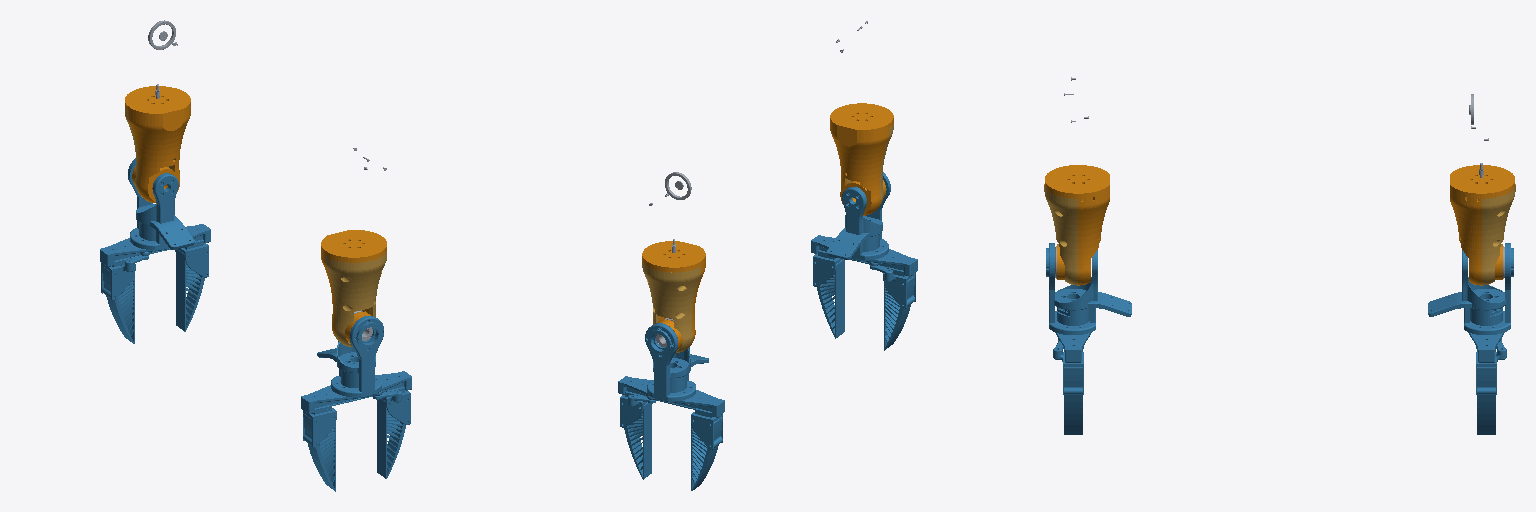
robot.urdf — arm_v2_articulated:
<?xml version='1.0' encoding='utf-8'?>
<robot name="arm_v2_articulated">
  <link name="base_link">
    <visual name="stand_retained_1">
      <origin xyz="0.0215734774383 0 -1.17951807079" rpy="1.57079632679 0 -1.57079632679" />
      <geometry>
        <mesh filename="../meshes/stand_retained_1.stl" />
      </geometry>
      <material name="material_retained">
        <color rgba="0.64 0.67 0.71 1" />
      </material>
    </visual>
    <visual name="stand_retained_2">
      <origin xyz="0.0215734774383 0 -1.17951807079" rpy="1.57079632679 0 -1.57079632679" />
      <geometry>
        <mesh filename="../meshes/stand_retained_2.stl" />
      </geometry>
      <material name="material_retained">
        <color rgba="0.64 0.67 0.71 1" />
      </material>
    </visual>
  </link>
  <link name="link1">
    <visual name="right_link1_retained">
      <origin xyz="0 0.163325 -1.24" rpy="1.57079632679 0 -1.57079632679" />
      <geometry>
        <mesh filename="../meshes/right_link1_retained.stl" />
      </geometry>
      <material name="material_retained">
        <color rgba="0.64 0.67 0.71 1" />
      </material>
    </visual>
  </link>
  <link name="link2">
    <visual name="right_link2_retained">
      <origin xyz="0.00702084238344 0.279325 -1.24" rpy="1.57079632679 0 -1.57079632679" />
      <geometry>
        <mesh filename="../meshes/right_link2_retained.stl" />
      </geometry>
      <material name="material_retained">
        <color rgba="0.64 0.67 0.71 1" />
      </material>
    </visual>
  </link>
  <link name="link3">
    <visual name="right_link3_retained_1">
      <origin xyz="0.00702084238344 0.279325 -1.1237000008" rpy="1.57079632679 0 -1.57079632679" />
      <geometry>
        <mesh filename="../meshes/right_link3_retained_1.stl" />
      </geometry>
      <material name="material_retained">
        <color rgba="0.64 0.67 0.71 1" />
      </material>
    </visual>
    <visual name="right_link3_retained_2">
      <origin xyz="0.00702084238344 0.279325 -1.1237000008" rpy="1.57079632679 0 -1.57079632679" />
      <geometry>
        <mesh filename="../meshes/right_link3_retained_2.stl" />
      </geometry>
      <material name="material_retained">
        <color rgba="0.64 0.67 0.71 1" />
      </material>
    </visual>
  </link>
  <link name="link4">
    <visual name="right_link4_retained">
      <origin xyz="0.00702084238344 0.281575000803 -0.939100000803" rpy="1.57079632679 0 -1.57079632679" />
      <geometry>
        <mesh filename="../meshes/right_link4_retained.stl" />
      </geometry>
      <material name="material_retained">
        <color rgba="0.64 0.67 0.71 1" />
      </material>
    </visual>
  </link>
  <link name="link5">
    <visual name="right_link5_new_cover">
      <origin xyz="0.00702084238344 0.281575000803 -0.831600001606" rpy="1.57079632679 0 -1.57079632679" />
      <geometry>
        <mesh filename="../meshes/right_link5_new_cover.stl" />
      </geometry>
      <material name="material_new_cover">
        <color rgba="0.75 0.6 0.3 1" />
      </material>
    </visual>
    <visual name="right_link5_new_forearm">
      <origin xyz="0.00702084238344 0.281575000803 -0.831600001606" rpy="1.57079632679 0 -1.57079632679" />
      <geometry>
        <mesh filename="../meshes/right_link5_new_forearm.stl" />
      </geometry>
      <material name="material_new_forearm">
        <color rgba="0.85 0.55 0.12 1" />
      </material>
    </visual>
    <visual name="right_link5_retained">
      <origin xyz="0.00702084238344 0.281575000803 -0.831600001606" rpy="1.57079632679 0 -1.57079632679" />
      <geometry>
        <mesh filename="../meshes/right_link5_retained.stl" />
      </geometry>
      <material name="material_retained">
        <color rgba="0.64 0.67 0.71 1" />
      </material>
    </visual>
  </link>
  <link name="link6">
    <visual name="right_link6_new_wrist">
      <origin xyz="0.00702084238344 0.288575000803 -0.703600001606" rpy="1.57079632679 0 -1.57079632679" />
      <geometry>
        <mesh filename="../meshes/right_link6_new_wrist.stl" />
      </geometry>
      <material name="material_new_wrist">
        <color rgba="0.26 0.53 0.7 1" />
      </material>
    </visual>
    <visual name="right_link6_retained">
      <origin xyz="0.00702084238344 0.288575000803 -0.703600001606" rpy="1.57079632679 0 -1.57079632679" />
      <geometry>
        <mesh filename="../meshes/right_link6_retained.stl" />
      </geometry>
      <material name="material_retained">
        <color rgba="0.64 0.67 0.71 1" />
      </material>
    </visual>
  </link>
  <link name="right_crank">
    <visual name="right_crank_new_wrist">
      <origin xyz="0.00702084238342 0.288575000803 -0.608288613305" rpy="1.57079632679 0 -1.57079632679" />
      <geometry>
        <mesh filename="../meshes/right_crank_new_wrist.stl" />
      </geometry>
      <material name="material_new_wrist">
        <color rgba="0.26 0.53 0.7 1" />
      </material>
    </visual>
  </link>
  <link name="link7">
    <visual name="right_jaw0_new_wrist">
      <origin xyz="0.0622319394516 0.266830592257 -0.595788613305" rpy="1.57079632679 0 -1.57079632679" />
      <geometry>
        <mesh filename="../meshes/right_jaw0_new_wrist.stl" />
      </geometry>
      <material name="material_new_wrist">
        <color rgba="0.26 0.53 0.7 1" />
      </material>
    </visual>
  </link>
  <link name="right_bar0">
    <visual name="right_bar0_new_wrist">
      <origin xyz="0.0329987431886 0.273570045963 -0.595788613305" rpy="1.57079632679 0 -1.57079632679" />
      <geometry>
        <mesh filename="../meshes/right_bar0_new_wrist.stl" />
      </geometry>
      <material name="material_new_wrist">
        <color rgba="0.26 0.53 0.7 1" />
      </material>
    </visual>
  </link>
  <link name="link8">
    <visual name="right_jaw1_new_wrist">
      <origin xyz="-0.0481892415962 0.310323802235 -0.595788613305" rpy="1.57079632679 0 -1.57079632679" />
      <geometry>
        <mesh filename="../meshes/right_jaw1_new_wrist.stl" />
      </geometry>
      <material name="material_new_wrist">
        <color rgba="0.26 0.53 0.7 1" />
      </material>
    </visual>
  </link>
  <link name="right_bar1">
    <visual name="right_bar1_new_wrist">
      <origin xyz="-0.0189570584217 0.303579955643 -0.595788613305" rpy="1.57079632679 0 -1.57079632679" />
      <geometry>
        <mesh filename="../meshes/right_bar1_new_wrist.stl" />
      </geometry>
      <material name="material_new_wrist">
        <color rgba="0.26 0.53 0.7 1" />
      </material>
    </visual>
  </link>
  <link name="link1L">
    <visual name="left_link1_retained">
      <origin xyz="0 -0.163325 -1.24" rpy="1.57079632679 0 -1.57079632679" />
      <geometry>
        <mesh filename="../meshes/left_link1_retained.stl" />
      </geometry>
      <material name="material_retained">
        <color rgba="0.64 0.67 0.71 1" />
      </material>
    </visual>
  </link>
  <link name="link2l">
    <visual name="left_link2_retained">
      <origin xyz="0.00702084238344 -0.279325 -1.24" rpy="1.57079632679 0 -1.57079632679" />
      <geometry>
        <mesh filename="../meshes/left_link2_retained.stl" />
      </geometry>
      <material name="material_retained">
        <color rgba="0.64 0.67 0.71 1" />
      </material>
    </visual>
  </link>
  <link name="link3l">
    <visual name="left_link3_retained_1">
      <origin xyz="0.00702084238344 -0.279325 -1.1237000008" rpy="1.57079632679 0 -1.57079632679" />
      <geometry>
        <mesh filename="../meshes/left_link3_retained_1.stl" />
      </geometry>
      <material name="material_retained">
        <color rgba="0.64 0.67 0.71 1" />
      </material>
    </visual>
    <visual name="left_link3_retained_2">
      <origin xyz="0.00702084238344 -0.279325 -1.1237000008" rpy="1.57079632679 0 -1.57079632679" />
      <geometry>
        <mesh filename="../meshes/left_link3_retained_2.stl" />
      </geometry>
      <material name="material_retained">
        <color rgba="0.64 0.67 0.71 1" />
      </material>
    </visual>
  </link>
  <link name="link4l">
    <visual name="left_link4_retained_1">
      <origin xyz="0.00702084238344 -0.281575000803 -0.939100000803" rpy="1.57079632679 0 -1.57079632679" />
      <geometry>
        <mesh filename="../meshes/left_link4_retained_1.stl" />
      </geometry>
      <material name="material_retained">
        <color rgba="0.64 0.67 0.71 1" />
      </material>
    </visual>
    <visual name="left_link4_retained_2">
      <origin xyz="0.00702084238344 -0.281575000803 -0.939100000803" rpy="1.57079632679 0 -1.57079632679" />
      <geometry>
        <mesh filename="../meshes/left_link4_retained_2.stl" />
      </geometry>
      <material name="material_retained">
        <color rgba="0.64 0.67 0.71 1" />
      </material>
    </visual>
  </link>
  <link name="link5l">
    <visual name="left_link5_new_cover">
      <origin xyz="0.00702084238344 -0.281575000803 -0.831600001606" rpy="1.57079632679 0 -1.57079632679" />
      <geometry>
        <mesh filename="../meshes/left_link5_new_cover.stl" />
      </geometry>
      <material name="material_new_cover">
        <color rgba="0.75 0.6 0.3 1" />
      </material>
    </visual>
    <visual name="left_link5_new_forearm">
      <origin xyz="0.00702084238344 -0.281575000803 -0.831600001606" rpy="1.57079632679 0 -1.57079632679" />
      <geometry>
        <mesh filename="../meshes/left_link5_new_forearm.stl" />
      </geometry>
      <material name="material_new_forearm">
        <color rgba="0.85 0.55 0.12 1" />
      </material>
    </visual>
    <visual name="left_link5_retained">
      <origin xyz="0.00702084238344 -0.281575000803 -0.831600001606" rpy="1.57079632679 0 -1.57079632679" />
      <geometry>
        <mesh filename="../meshes/left_link5_retained.stl" />
      </geometry>
      <material name="material_retained">
        <color rgba="0.64 0.67 0.71 1" />
      </material>
    </visual>
  </link>
  <link name="link6l">
    <visual name="left_link6_new_wrist">
      <origin xyz="0.00702084238344 -0.288575000803 -0.703600001606" rpy="1.57079632679 0 -1.57079632679" />
      <geometry>
        <mesh filename="../meshes/left_link6_new_wrist.stl" />
      </geometry>
      <material name="material_new_wrist">
        <color rgba="0.26 0.53 0.7 1" />
      </material>
    </visual>
    <visual name="left_link6_retained">
      <origin xyz="0.00702084238344 -0.288575000803 -0.703600001606" rpy="1.57079632679 0 -1.57079632679" />
      <geometry>
        <mesh filename="../meshes/left_link6_retained.stl" />
      </geometry>
      <material name="material_retained">
        <color rgba="0.64 0.67 0.71 1" />
      </material>
    </visual>
  </link>
  <link name="left_crank">
    <visual name="left_crank_new_wrist">
      <origin xyz="0.00702084238342 -0.288575000803 -0.608288613305" rpy="1.57079632679 0 -1.57079632679" />
      <geometry>
        <mesh filename="../meshes/left_crank_new_wrist.stl" />
      </geometry>
      <material name="material_new_wrist">
        <color rgba="0.26 0.53 0.7 1" />
      </material>
    </visual>
  </link>
  <link name="link7l">
    <visual name="left_jaw0_new_wrist">
      <origin xyz="0.0622319394516 -0.266830592257 -0.595788613305" rpy="1.57079632679 0 -1.57079632679" />
      <geometry>
        <mesh filename="../meshes/left_jaw0_new_wrist.stl" />
      </geometry>
      <material name="material_new_wrist">
        <color rgba="0.26 0.53 0.7 1" />
      </material>
    </visual>
  </link>
  <link name="left_bar0">
    <visual name="left_bar0_new_wrist">
      <origin xyz="0.0329987431886 -0.273570045963 -0.595788613305" rpy="1.57079632679 0 -1.57079632679" />
      <geometry>
        <mesh filename="../meshes/left_bar0_new_wrist.stl" />
      </geometry>
      <material name="material_new_wrist">
        <color rgba="0.26 0.53 0.7 1" />
      </material>
    </visual>
  </link>
  <link name="link8l">
    <visual name="left_jaw1_new_wrist">
      <origin xyz="-0.0481892415962 -0.310323802235 -0.595788613305" rpy="1.57079632679 0 -1.57079632679" />
      <geometry>
        <mesh filename="../meshes/left_jaw1_new_wrist.stl" />
      </geometry>
      <material name="material_new_wrist">
        <color rgba="0.26 0.53 0.7 1" />
      </material>
    </visual>
  </link>
  <link name="left_bar1">
    <visual name="left_bar1_new_wrist">
      <origin xyz="-0.0189570584217 -0.303579955643 -0.595788613305" rpy="1.57079632679 0 -1.57079632679" />
      <geometry>
        <mesh filename="../meshes/left_bar1_new_wrist.stl" />
      </geometry>
      <material name="material_new_wrist">
        <color rgba="0.26 0.53 0.7 1" />
      </material>
    </visual>
  </link>
  <joint name="joint1" type="revolute">
    <parent link="base_link" />
    <child link="link1" />
    <origin xyz="0.0215734774383 -0.163325 0.060481929205" rpy="0 0 0" />
    <axis xyz="0 1 0" />
    <limit lower="-1.7453292519943295" upper="1.7453292519943295" effort="100" velocity="1" />
  </joint>
  <joint name="joint2" type="revolute">
    <parent link="link1" />
    <child link="link2" />
    <origin xyz="-0.00702084238344 -0.116 0" rpy="0 0 0" />
    <axis xyz="1 0 0" />
    <limit lower="-1.3089969389957472" upper="1.3089969389957472" effort="100" velocity="1" />
  </joint>
  <joint name="joint3" type="revolute">
    <parent link="link2" />
    <child link="link3" />
    <origin xyz="0 0 -0.116299999197" rpy="0 0 0" />
    <axis xyz="0 0 -1" />
    <limit lower="-2.0943951023931953" upper="2.0943951023931953" effort="100" velocity="1" />
  </joint>
  <joint name="joint4" type="revolute">
    <parent link="link3" />
    <child link="link4" />
    <origin xyz="0 -0.0022500008028 -0.1846" rpy="0 0 0" />
    <axis xyz="0 -1 0" />
    <limit lower="-1.9198621771937625" upper="1.9198621771937625" effort="100" velocity="1" />
  </joint>
  <joint name="joint5" type="revolute">
    <parent link="link4" />
    <child link="link5" />
    <origin xyz="0 0 -0.107499999197" rpy="0 0 0" />
    <axis xyz="0 0 1" />
    <limit lower="-3.141592653589793" upper="3.141592653589793" effort="100" velocity="1" />
  </joint>
  <joint name="joint6" type="revolute">
    <parent link="link5" />
    <child link="link6" />
    <origin xyz="0 -0.007 -0.128" rpy="0 0 0" />
    <axis xyz="0 -1 0" />
    <limit lower="-1.5707963267948966" upper="1.5707963267948966" effort="100" velocity="1" />
  </joint>
  <joint name="right_gripper" type="revolute">
    <parent link="link6" />
    <child link="right_crank" />
    <origin xyz="1.60010893424e-14 -1.39888101103e-14 -0.0953113883009" rpy="0 0 0" />
    <axis xyz="0 0 -1" />
    <limit lower="-0.17453292519943295" upper="1.5707963267948966" effort="100" velocity="1" />
  </joint>
  <joint name="joint7" type="prismatic">
    <parent link="link6" />
    <child link="link7" />
    <origin xyz="-0.0552110970681 0.0217444085457 -0.107811388301" rpy="0 0 0" />
    <axis xyz="-1 -0 -0" />
    <limit lower="-0.040517261618092236" upper="0.0007105513753589827" effort="100" velocity="1" />
  </joint>
  <joint name="right_linkage_pin0" type="revolute">
    <parent link="right_crank" />
    <child link="right_bar0" />
    <origin xyz="-0.0259779008051 0.0150049548403 -0.0125" rpy="0 0 0" />
    <axis xyz="0 0 -1" />
    <limit lower="-6.283185307179586" upper="6.283185307179586" effort="100" velocity="1" />
  </joint>
  <joint name="joint8" type="prismatic">
    <parent link="link6" />
    <child link="link8" />
    <origin xyz="0.0552100839797 -0.0217488014319 -0.107811388301" rpy="0 0 0" />
    <axis xyz="-1 -0 -0" />
    <limit lower="-0.0007098349346630607" upper="0.04051562268663317" effort="100" velocity="1" />
  </joint>
  <joint name="right_linkage_pin1" type="revolute">
    <parent link="right_crank" />
    <child link="right_bar1" />
    <origin xyz="0.0259779008051 -0.0150049548403 -0.0125" rpy="0 0 0" />
    <axis xyz="0 0 -1" />
    <limit lower="-6.283185307179586" upper="6.283185307179586" effort="100" velocity="1" />
  </joint>
  <joint name="joint1L" type="revolute">
    <parent link="base_link" />
    <child link="link1L" />
    <origin xyz="0.0215734774383 0.163325 0.060481929205" rpy="0 0 0" />
    <axis xyz="0 -1 0" />
    <limit lower="-1.7453292519943295" upper="1.7453292519943295" effort="100" velocity="1" />
  </joint>
  <joint name="joint2l" type="revolute">
    <parent link="link1L" />
    <child link="link2l" />
    <origin xyz="-0.00702084238344 0.116 0" rpy="0 0 0" />
    <axis xyz="1 0 0" />
    <limit lower="-1.3089969389957472" upper="1.3089969389957472" effort="100" velocity="1" />
  </joint>
  <joint name="joint3l" type="revolute">
    <parent link="link2l" />
    <child link="link3l" />
    <origin xyz="0 0 -0.116299999197" rpy="0 0 0" />
    <axis xyz="0 0 -1" />
    <limit lower="-2.0943951023931953" upper="2.0943951023931953" effort="100" velocity="1" />
  </joint>
  <joint name="joint4l" type="revolute">
    <parent link="link3l" />
    <child link="link4l" />
    <origin xyz="0 0.0022500008028 -0.1846" rpy="0 0 0" />
    <axis xyz="0 1 0" />
    <limit lower="-1.9198621771937625" upper="1.9198621771937625" effort="100" velocity="1" />
  </joint>
  <joint name="joint5l" type="revolute">
    <parent link="link4l" />
    <child link="link5l" />
    <origin xyz="0 0 -0.107499999197" rpy="0 0 0" />
    <axis xyz="0 0 1" />
    <limit lower="-3.141592653589793" upper="3.141592653589793" effort="100" velocity="1" />
  </joint>
  <joint name="joint6l" type="revolute">
    <parent link="link5l" />
    <child link="link6l" />
    <origin xyz="0 0.007 -0.128" rpy="0 0 0" />
    <axis xyz="0 1 0" />
    <limit lower="-1.5707963267948966" upper="1.5707963267948966" effort="100" velocity="1" />
  </joint>
  <joint name="left_gripper" type="revolute">
    <parent link="link6l" />
    <child link="left_crank" />
    <origin xyz="1.60010893424e-14 1.39888101103e-14 -0.0953113883009" rpy="0 0 0" />
    <axis xyz="0 0 1" />
    <limit lower="-0.17453292519943295" upper="1.5707963267948966" effort="100" velocity="1" />
  </joint>
  <joint name="joint7l" type="prismatic">
    <parent link="link6l" />
    <child link="link7l" />
    <origin xyz="-0.0552110970681 -0.0217444085457 -0.107811388301" rpy="0 0 0" />
    <axis xyz="-1 -0 -0" />
    <limit lower="-0.040517261618092236" upper="0.0007105513753589827" effort="100" velocity="1" />
  </joint>
  <joint name="left_linkage_pin0" type="revolute">
    <parent link="left_crank" />
    <child link="left_bar0" />
    <origin xyz="-0.0259779008051 -0.0150049548403 -0.0125" rpy="0 0 0" />
    <axis xyz="0 0 1" />
    <limit lower="-6.283185307179586" upper="6.283185307179586" effort="100" velocity="1" />
  </joint>
  <joint name="joint8l" type="prismatic">
    <parent link="link6l" />
    <child link="link8l" />
    <origin xyz="0.0552100839797 0.0217488014319 -0.107811388301" rpy="0 0 0" />
    <axis xyz="-1 -0 -0" />
    <limit lower="-0.0007098349346630607" upper="0.04051562268663317" effort="100" velocity="1" />
  </joint>
  <joint name="left_linkage_pin1" type="revolute">
    <parent link="left_crank" />
    <child link="left_bar1" />
    <origin xyz="0.0259779008051 0.0150049548403 -0.0125" rpy="0 0 0" />
    <axis xyz="0 0 1" />
    <limit lower="-6.283185307179586" upper="6.283185307179586" effort="100" velocity="1" />
  </joint>
</robot>

--- Render facts (derived) ---
Views: 3 orthographic renders of the robot side by side, from view 1: azimuth 30°, elevation 25°; view 2: azimuth 150°, elevation 25°; view 3: azimuth 270°, elevation 25°.
Model arm_v2_articulated with 23 links and 22 joints (18 revolute, 4 prismatic), rooted at base_link, posed all joints at 0.
Links seen in each view (by area): view 1: link5l, link5, link6, link6l, link8l, link8, link7, link7l; view 2: link5, link5l, link6l, link6, link8, link8l, link7l, link7; view 3: link5, link5l, link6, link6l, link8, link8l.
Boxes of the visible links, <box> form: link5l: <box>125,86,190,203</box>; link5: <box>321,230,386,346</box>; link6: <box>301,316,411,413</box>; link6l: <box>100,158,210,266</box>; link8l: <box>175,239,208,331</box>; link8: <box>377,387,410,478</box>; link7: <box>303,405,336,491</box>; link7l: <box>101,257,135,343</box>; link5: <box>830,103,893,215</box>; link5l: <box>642,241,705,352</box>; link6l: <box>618,323,724,417</box>; link6: <box>811,172,917,276</box>; link8: <box>813,250,844,338</box>; link8l: <box>620,391,651,479</box>; link7l: <box>691,408,722,490</box>; link7: <box>883,267,915,350</box>; link5: <box>1044,165,1109,285</box>; link5l: <box>1450,165,1515,285</box>; link6: <box>1046,243,1131,362</box>; link6l: <box>1428,243,1513,362</box>; link8: <box>1053,352,1083,434</box>; link8l: <box>1476,352,1506,434</box>.
Size in the robot's own frame: 0.1723 by 0.6582 by 0.53 metres.
23 mesh visuals loaded from 33 distinct referenced files (23 binary STL); not drawn: 10 (reference not matched to a file when rendering).
